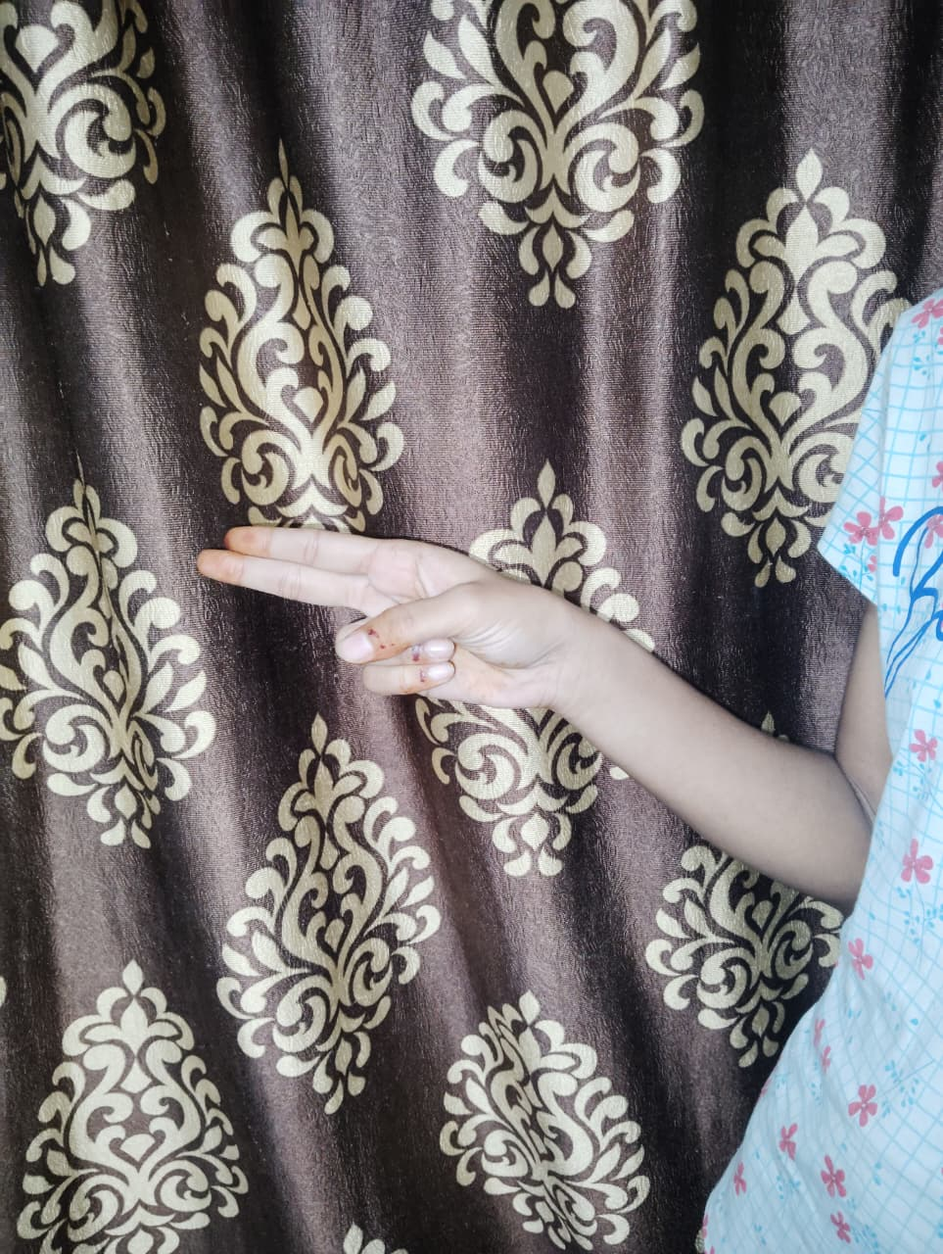H: (197, 525, 560, 709)
